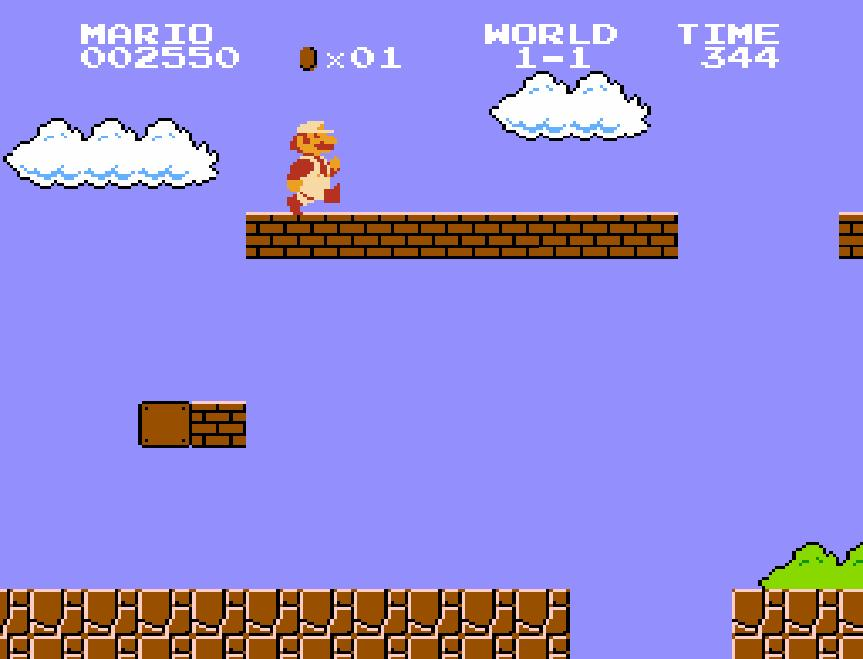fire_mario: (284, 118, 342, 216)
